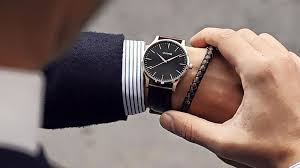clock: (143, 41, 187, 83)
